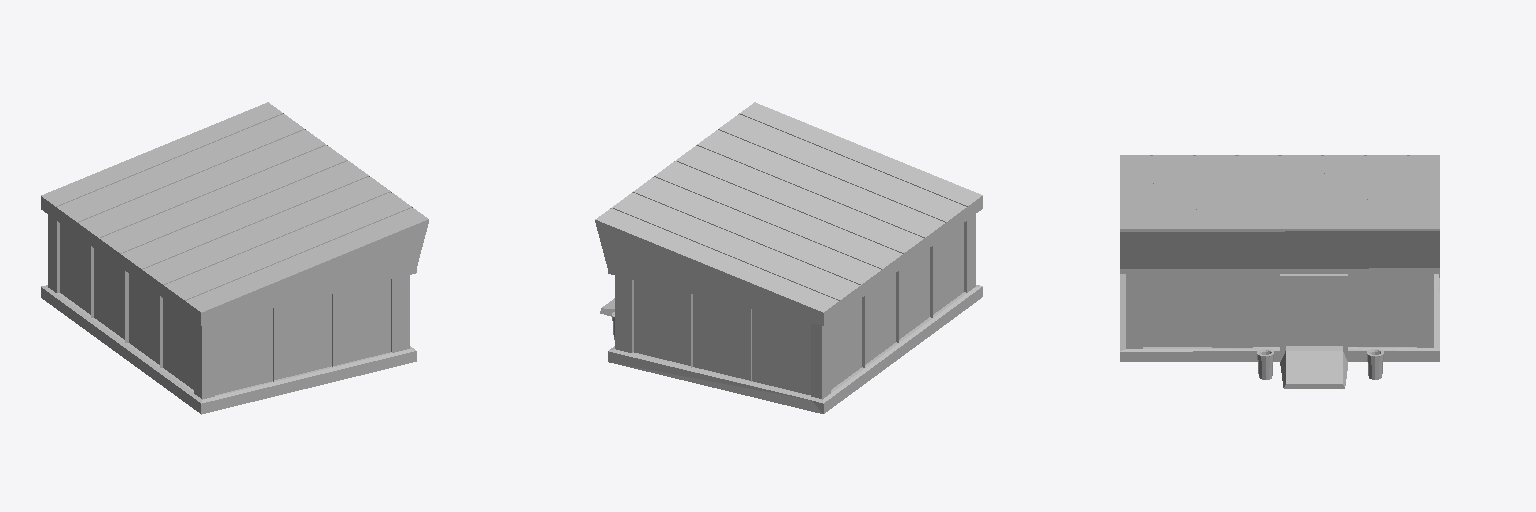
File: build3.obj
3 renders of one model, left to right at view 1: azimuth 30°, elevation 25°; view 2: azimuth 150°, elevation 25°; view 3: azimuth 270°, elevation 25°, orthographic.
Visible parts, largest first — view 1: Shop; view 2: Shop; view 3: Shop.
Boxes of the visible parts, box(x1,y1,x2,y2) form: Shop: box(41, 102, 428, 414); Shop: box(595, 102, 982, 413); Shop: box(1120, 155, 1439, 388).
Bounding box in the file's own units: 366 × 187 × 375.